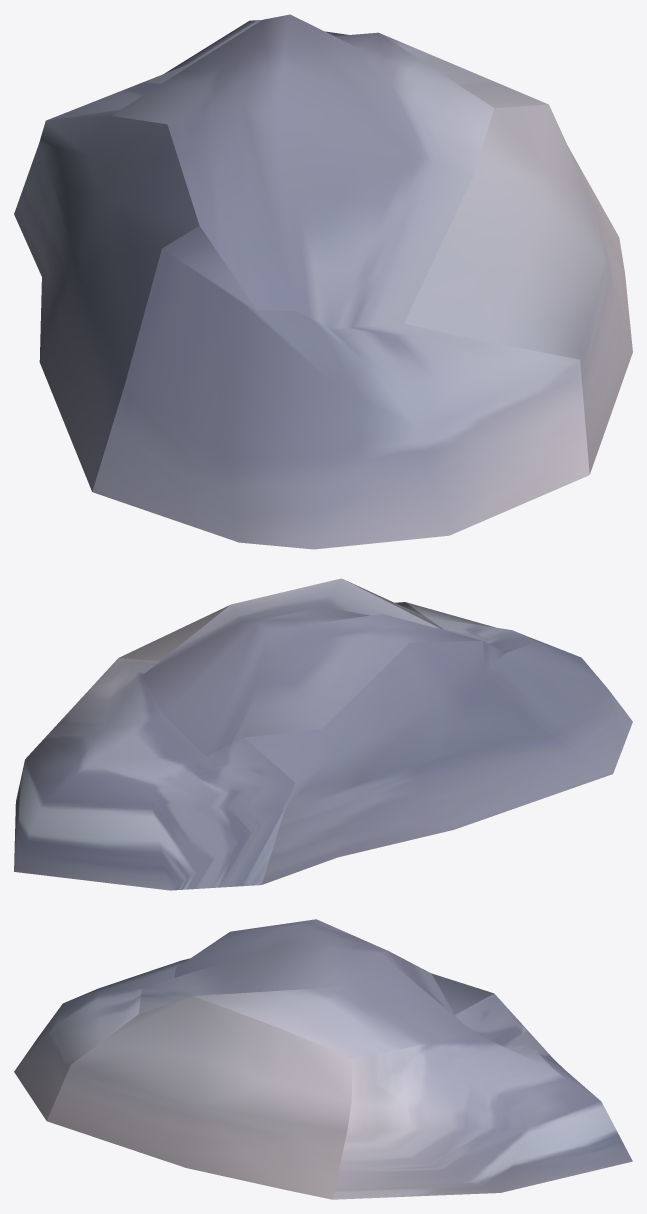
Rendered from snow_mitame_snow_small.fbx.
3 renders of one model, top to bottom at view 1: azimuth 30°, elevation 25°; view 2: azimuth 150°, elevation 25°; view 3: azimuth 270°, elevation 25°, orthographic. The views are drawn at different scales.
Visible parts, largest first — view 1: snowy_snow_small; view 2: snowy_snow_small; view 3: snowy_snow_small.
Part boxes in pixels (x1,y1,x2,y2): snowy_snow_small: (14,14,632,549); snowy_snow_small: (14,578,632,890); snowy_snow_small: (14,919,632,1199).
Bounding box in the file's own units: 25.63 × 9.86 × 34.59.
